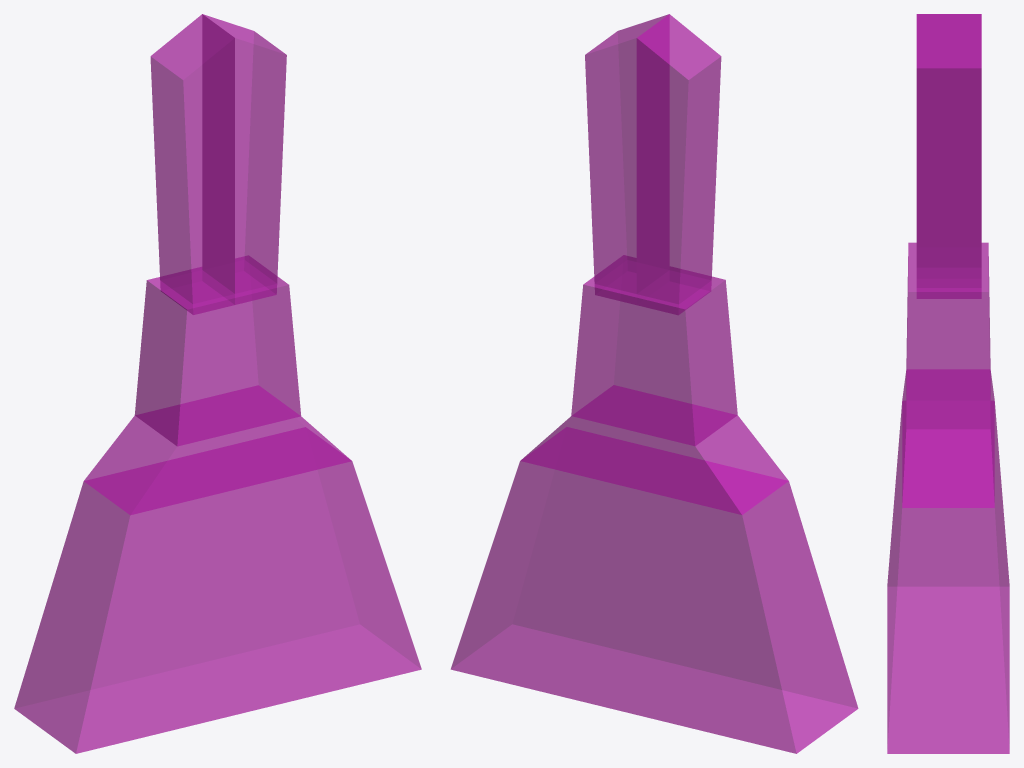
File: SM_Veh_Helm_02_Collision.fbx
3 views of the same model, side by side, from view 1: azimuth 30°, elevation 25°; view 2: azimuth 150°, elevation 25°; view 3: azimuth 270°, elevation 25° (orthographic).
Parts seen in each view (by area): view 1: SM_Veh_Helm_02_Collision; view 2: SM_Veh_Helm_02_Collision; view 3: SM_Veh_Helm_02_Collision.
Boxes of the visible parts, x1,y1,x2,y2 form: SM_Veh_Helm_02_Collision: (14,14,421,753); SM_Veh_Helm_02_Collision: (450,14,858,753); SM_Veh_Helm_02_Collision: (887,14,1009,753).
Size of the model in its own units: 67.22 by 123 by 20.81.
